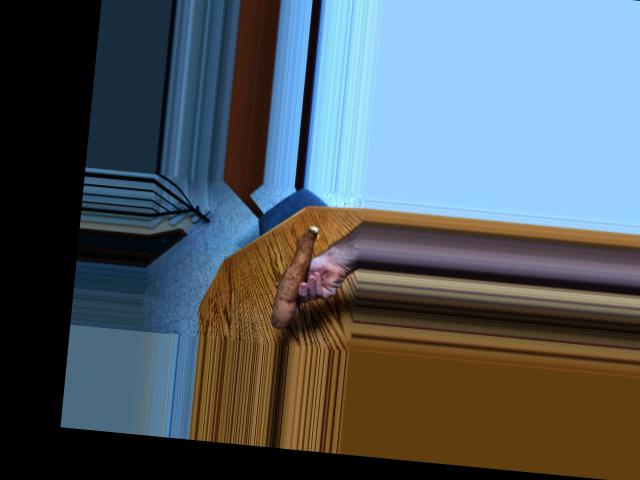sweet_potato: (265, 223, 325, 329)
